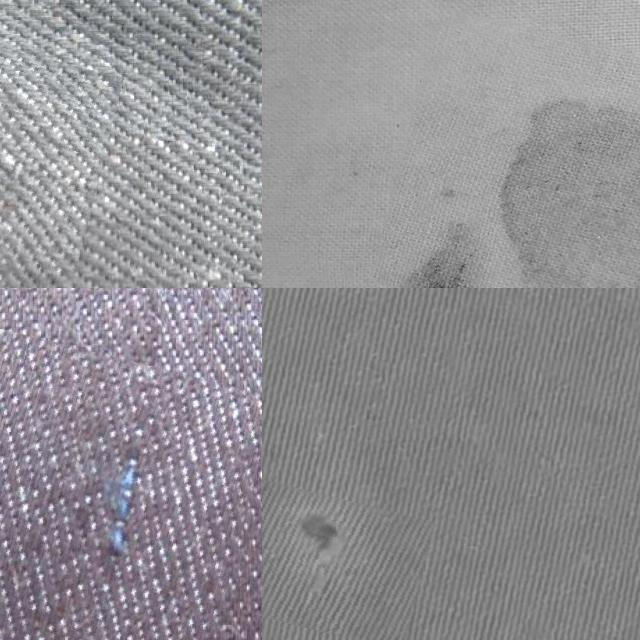Thread_other: (384, 26, 640, 288)
other: (262, 482, 428, 640)
stains: (0, 342, 255, 640), (0, 4, 111, 288)
